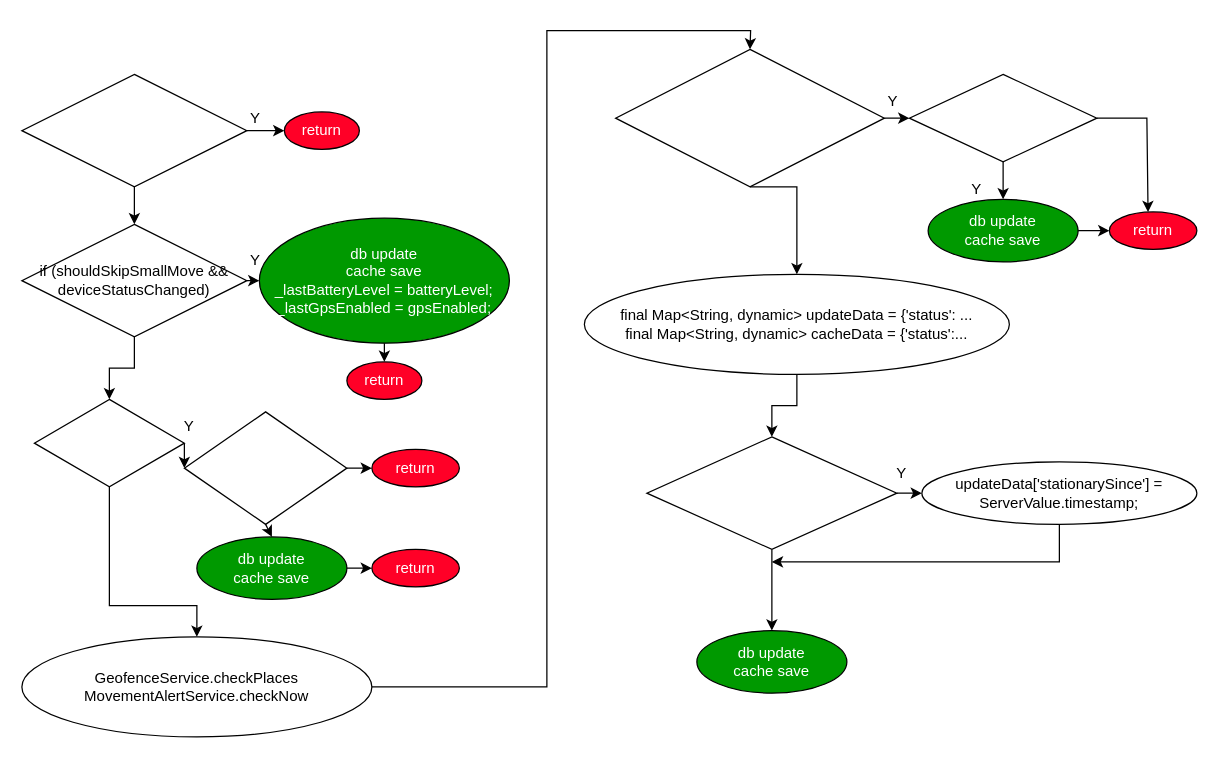
Some shapes in this 1219 by 759 pixel diagram are drawn without their labels. The box of each missing label's shape, as (x1, y1, x2, y2) in pixels:
if (!deviceStatus Changed): (183, 411, 347, 524)
if (deviceStatusChanged): (908, 73, 1097, 162)
if (movedMeters == null ||movedMeters >= 25): (646, 436, 897, 549)
if (position == null): (33, 398, 184, 487)
if (reason == 'motion' &&!SmartPresenceScheduler. hasActiveWatcher): (614, 48, 884, 187)
if (shouldSkipSmallMove &&!deviceStatusChanged): (21, 73, 247, 187)
